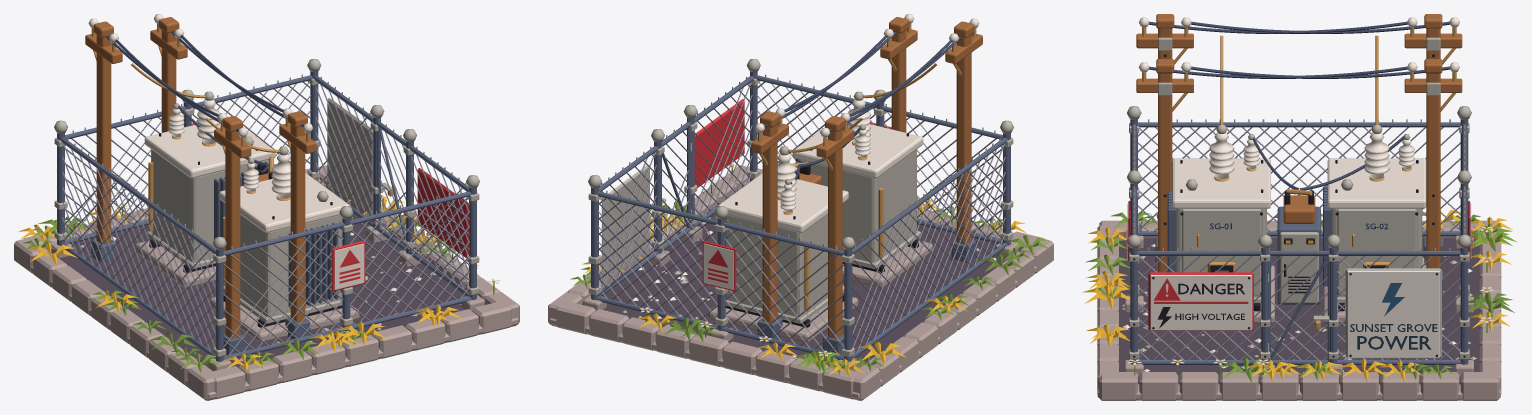
Rendered from bld.power-substation.glb.
3 views of the same model, side by side, from view 1: azimuth 30°, elevation 25°; view 2: azimuth 150°, elevation 25°; view 3: azimuth 270°, elevation 25° (orthographic). The views are drawn at different scales.
Visible parts, largest first — view 1: object 2, door_gate; view 2: object 2, door_gate; view 3: object 2, door_gate.
Boxes of the visible parts, x1,y1,x2,y2 form: object 2: (14, 14, 519, 400); door_gate: (377, 119, 405, 250); object 2: (548, 14, 1053, 400); door_gate: (662, 119, 691, 250); object 2: (1082, 14, 1516, 400); door_gate: (1268, 247, 1329, 364).
Size of the model in its own units: 6.67 by 4.54 by 7.02.
